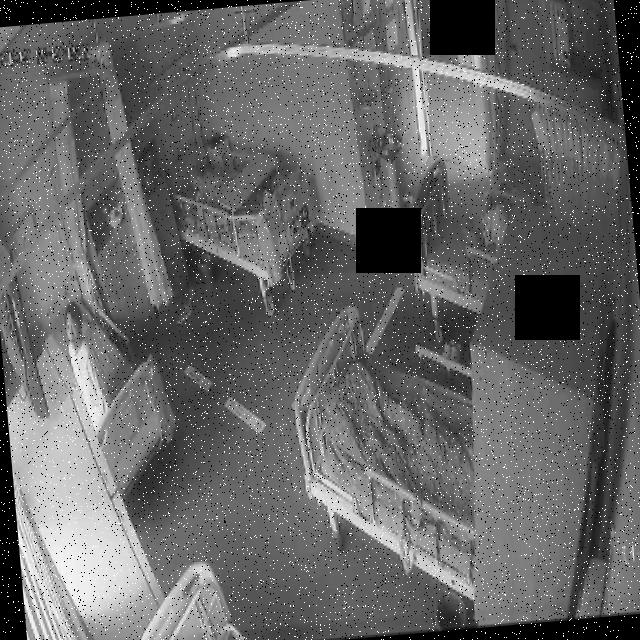bed: (284, 296, 487, 576), (166, 114, 334, 316), (47, 291, 182, 504), (402, 152, 515, 320)
patient: (60, 298, 122, 436)
